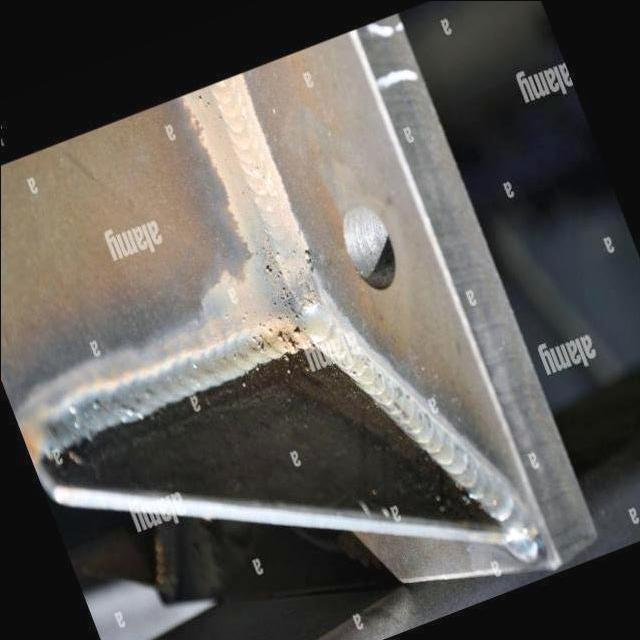defect: (249, 321, 308, 355), (272, 284, 302, 321), (261, 264, 273, 281), (301, 248, 312, 264), (272, 250, 281, 261), (275, 269, 282, 280)
